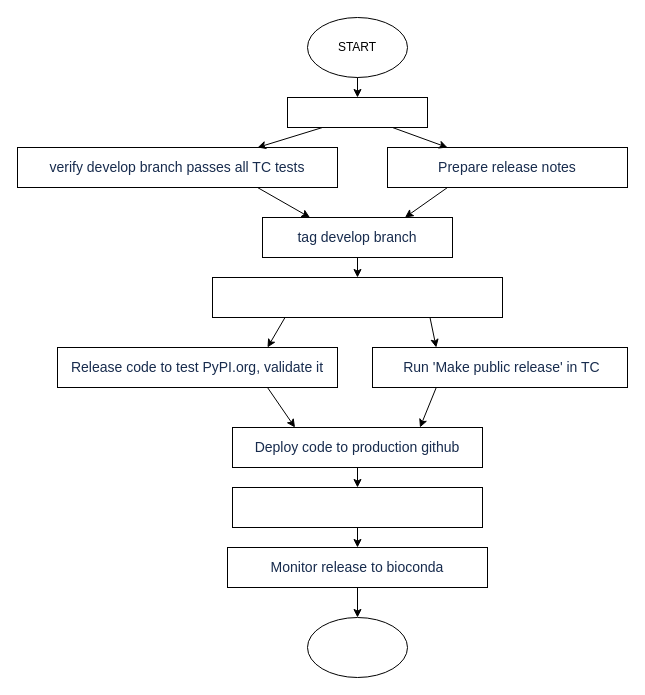
Some shapes in this 645 by 695 pixel diagram are drawn without their labels. Here are the shapes that lost their labels. From the top down, the box of each, then its label:
(286, 96, 428, 128): Update CITATION.cff
(212, 276, 502, 318): publish source code in staging repo
(232, 486, 482, 528): Release code to production PyPI
(306, 616, 408, 678): END
